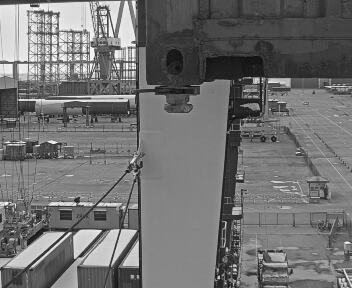twist_lock_1: (148, 81, 204, 120)
